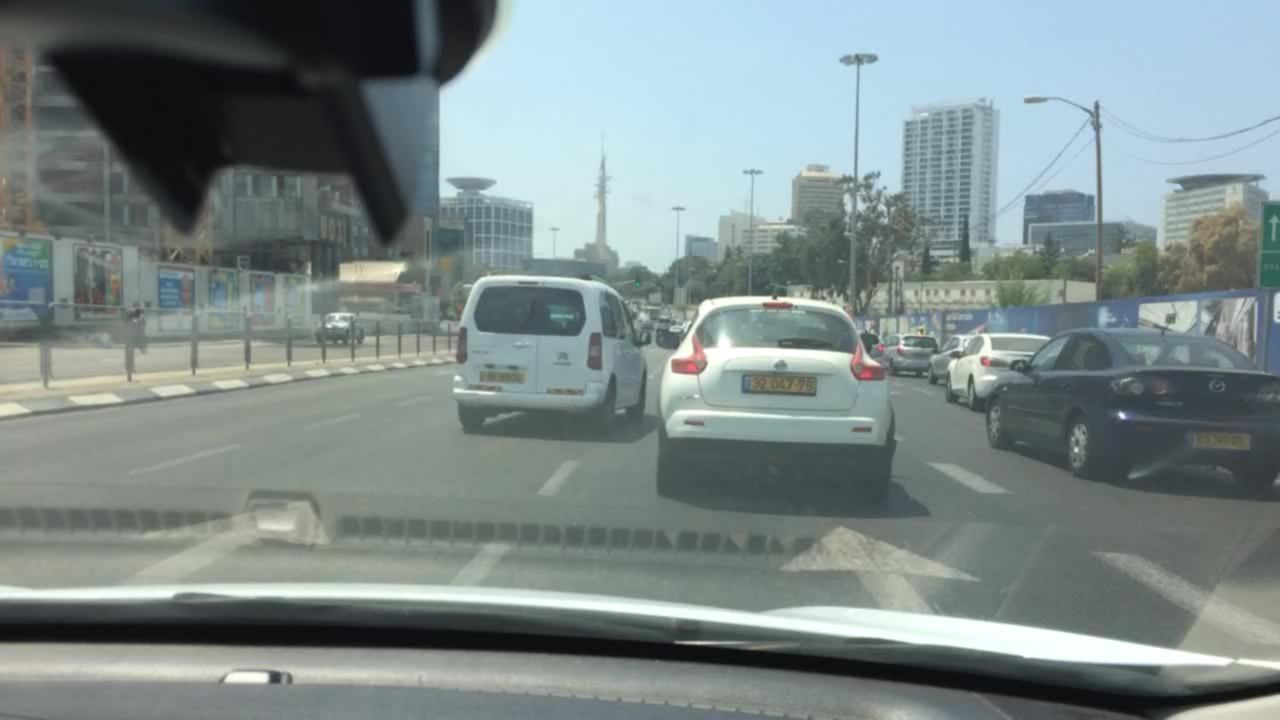Citroen: (553, 347, 576, 373)
Mazda: (1203, 374, 1229, 399)
Nissan: (773, 356, 794, 375)
